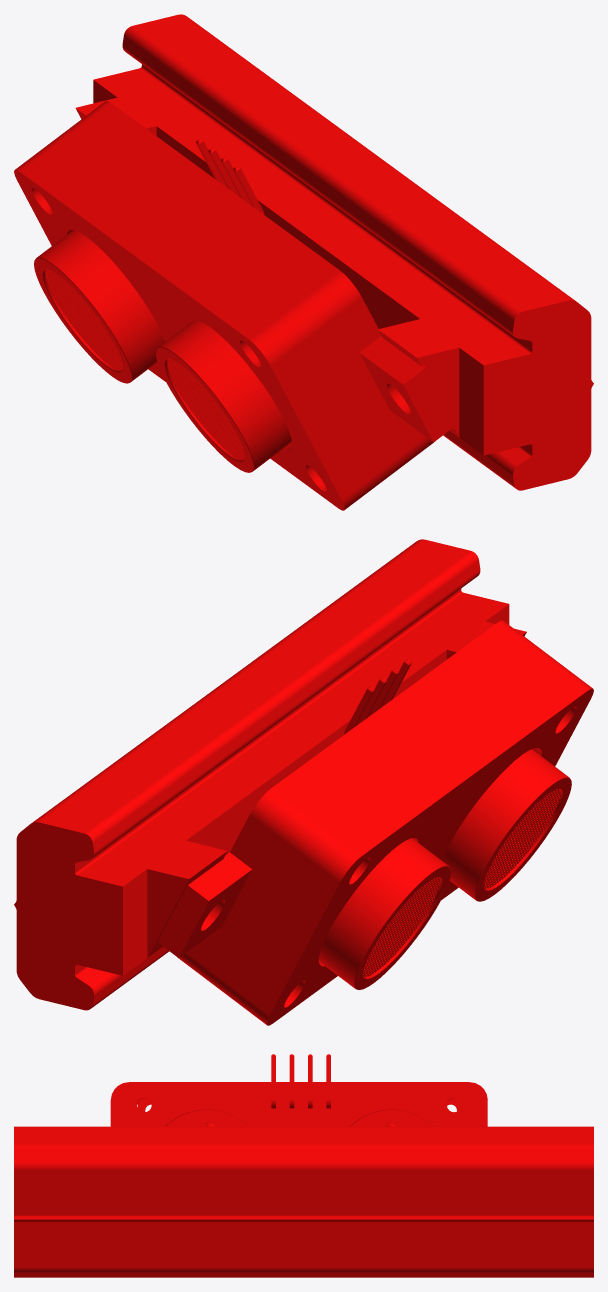
Rendered from sonar3.dae.
3 renders of one model, top to bottom at view 1: azimuth 30°, elevation 25°; view 2: azimuth 150°, elevation 25°; view 3: azimuth 270°, elevation 25°, orthographic. The views are drawn at different scales.
Visible parts, largest first — view 1: Body1 (×4), Platine.step, HC_SR04_gitter_001.step; view 2: Body1 (×4), Platine.step, HC_SR04_gitter_001.step; view 3: Body1 (×3), Platine.step.
Boxes of the visible parts, x1,y1,x2,y2 form: Body1 (×4): (14,14,593,510); Platine.step: (34,230,291,472); HC_SR04_gitter_001.step: (167,358,244,459); Body1 (×4): (14,539,593,1025); Platine.step: (318,749,571,989); HC_SR04_gitter_001.step: (484,788,560,888); Body1 (×3): (14,1054,593,1277); Platine.step: (138,1098,461,1126).
Size of the model in its own units: 0.0339 by 0.08 by 0.0307.
